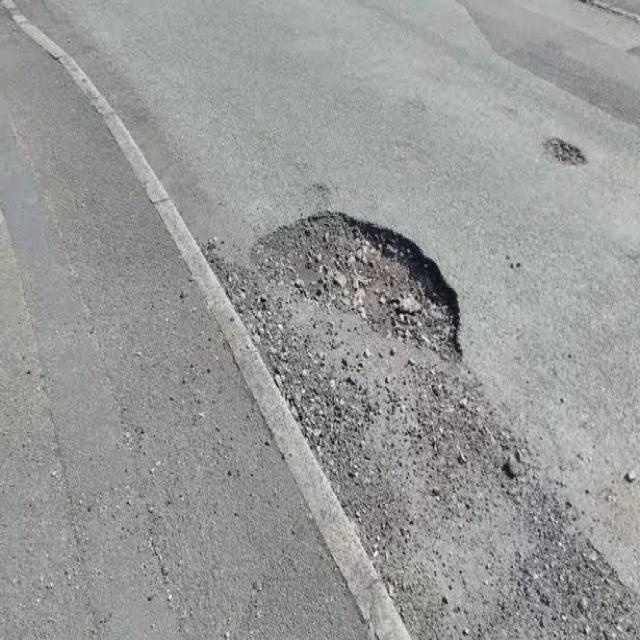pothole: (206, 141, 524, 453), (512, 87, 622, 191)
